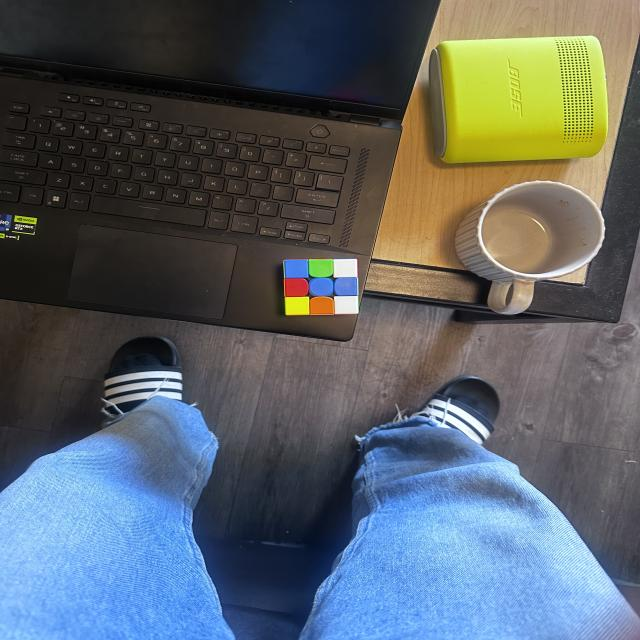sticker: (308, 276, 335, 298), (282, 277, 310, 298), (284, 295, 310, 316), (283, 260, 310, 280), (333, 295, 360, 315), (308, 258, 334, 278), (309, 295, 335, 315), (334, 277, 358, 297), (332, 258, 358, 276)
